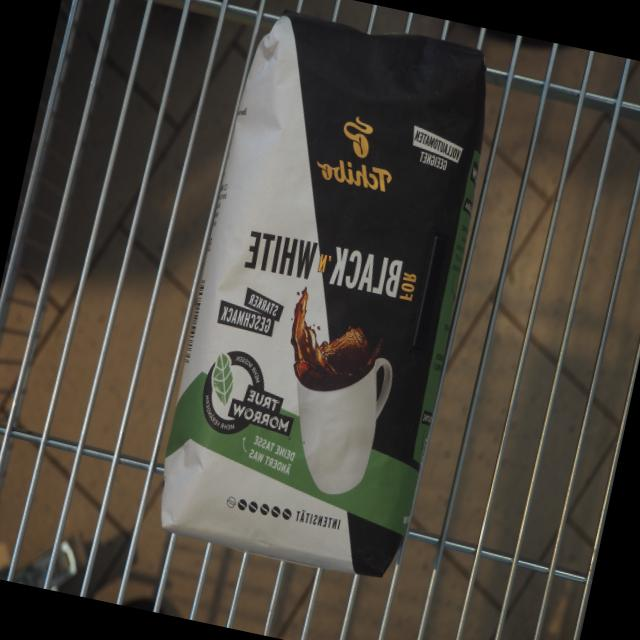BW Bohne: (144, 0, 515, 588)
